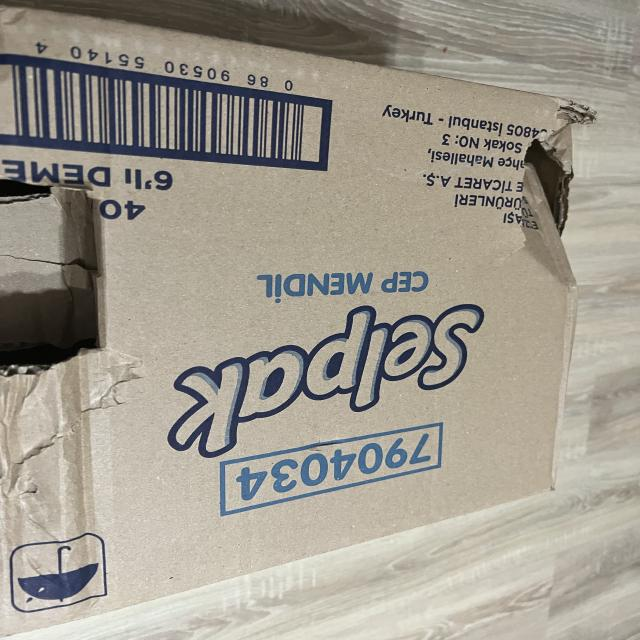damaged: (4, 8, 591, 640), (0, 159, 132, 530), (514, 73, 596, 302)
